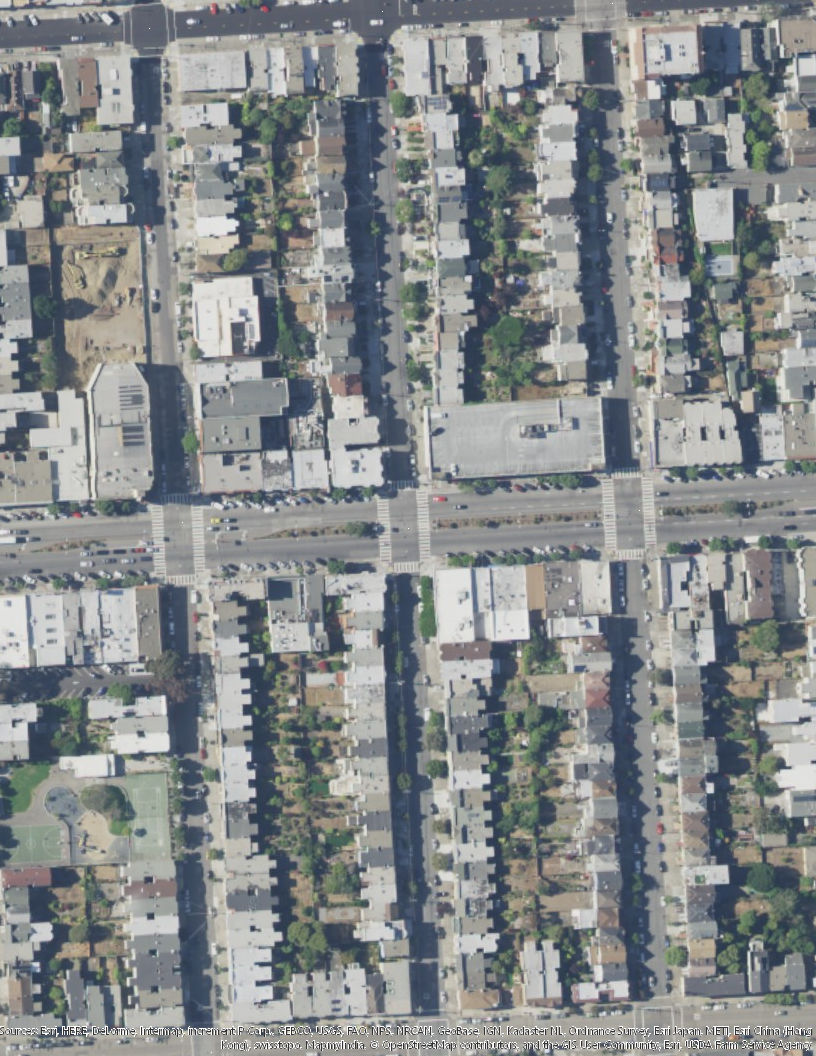zebracross: (150, 505, 168, 577), (640, 477, 658, 546), (376, 494, 393, 563), (601, 480, 617, 550), (415, 491, 431, 559), (193, 505, 205, 574), (159, 493, 191, 506), (616, 549, 645, 561), (164, 575, 195, 586), (391, 479, 417, 492), (613, 466, 643, 477), (393, 562, 420, 574)
